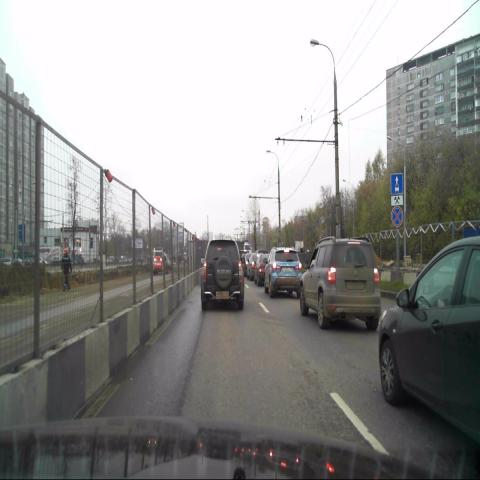5_14: (390, 174, 402, 193)
